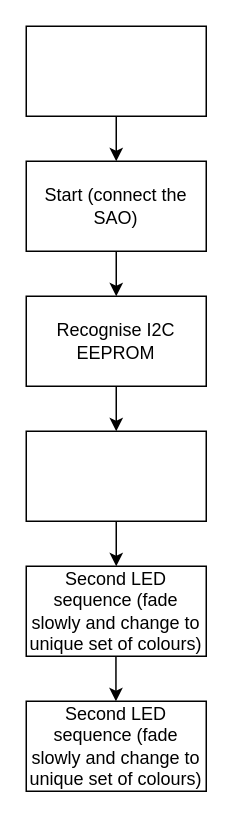
Image size: 233x818. Some labels were removed from this diagram. Here are the shapes that lost their labels. From the top down, the centre of each, then its label:
point (115, 70): Pre-requisite: the badge need to read the I2C EEPROM and run code natively
point (115, 475): Start the LED sequence (shine in bright white)
